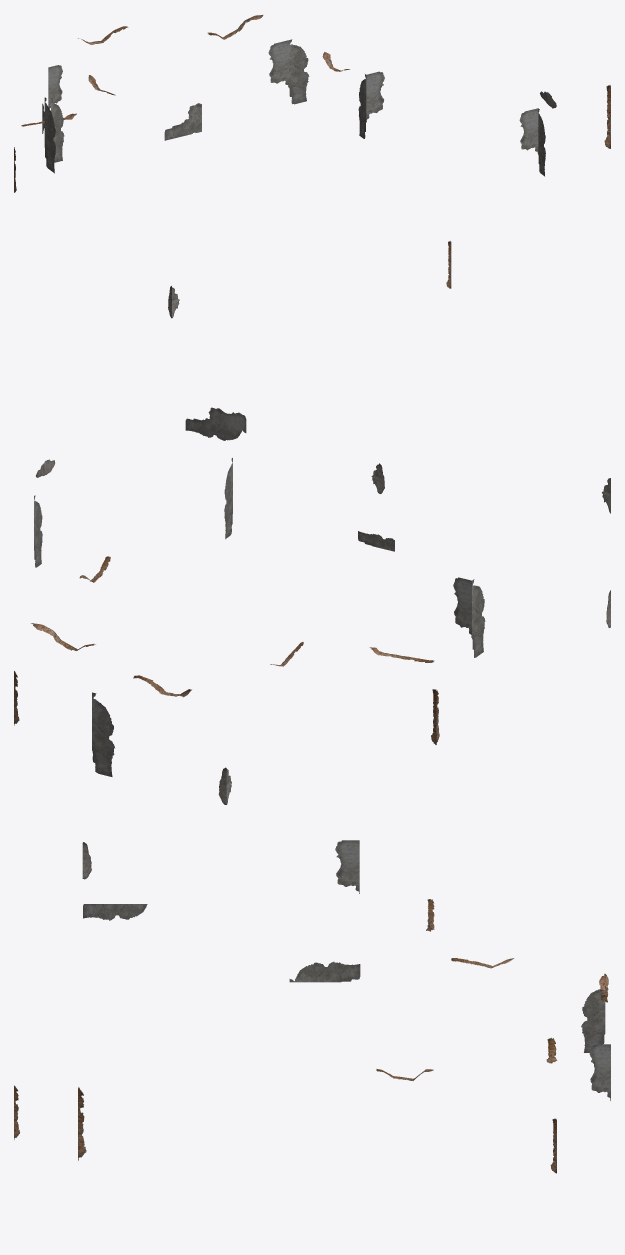
Rendered from BuildingLargeDecal01.glb.
3 renders of one model, top to bottom at view 1: azimuth 30°, elevation 25°; view 2: azimuth 150°, elevation 25°; view 3: azimuth 270°, elevation 25°, orthographic. The views are drawn at different scales.
Visible parts, largest first — view 1: xiutz_building_large_decal_0; view 2: xiutz_building_large_decal_0; view 3: xiutz_building_large_decal_0.
Part boxes in pixels (left/top/right/bottom): xiutz_building_large_decal_0: left=14, top=15, right=610, bottom=318; xiutz_building_large_decal_0: left=14, top=407, right=610, bottom=804; xiutz_building_large_decal_0: left=14, top=840, right=610, bottom=1173.
Size of the model in its own units: 30.6 by 9.78 by 31.4.
1 material, 1 textured.
